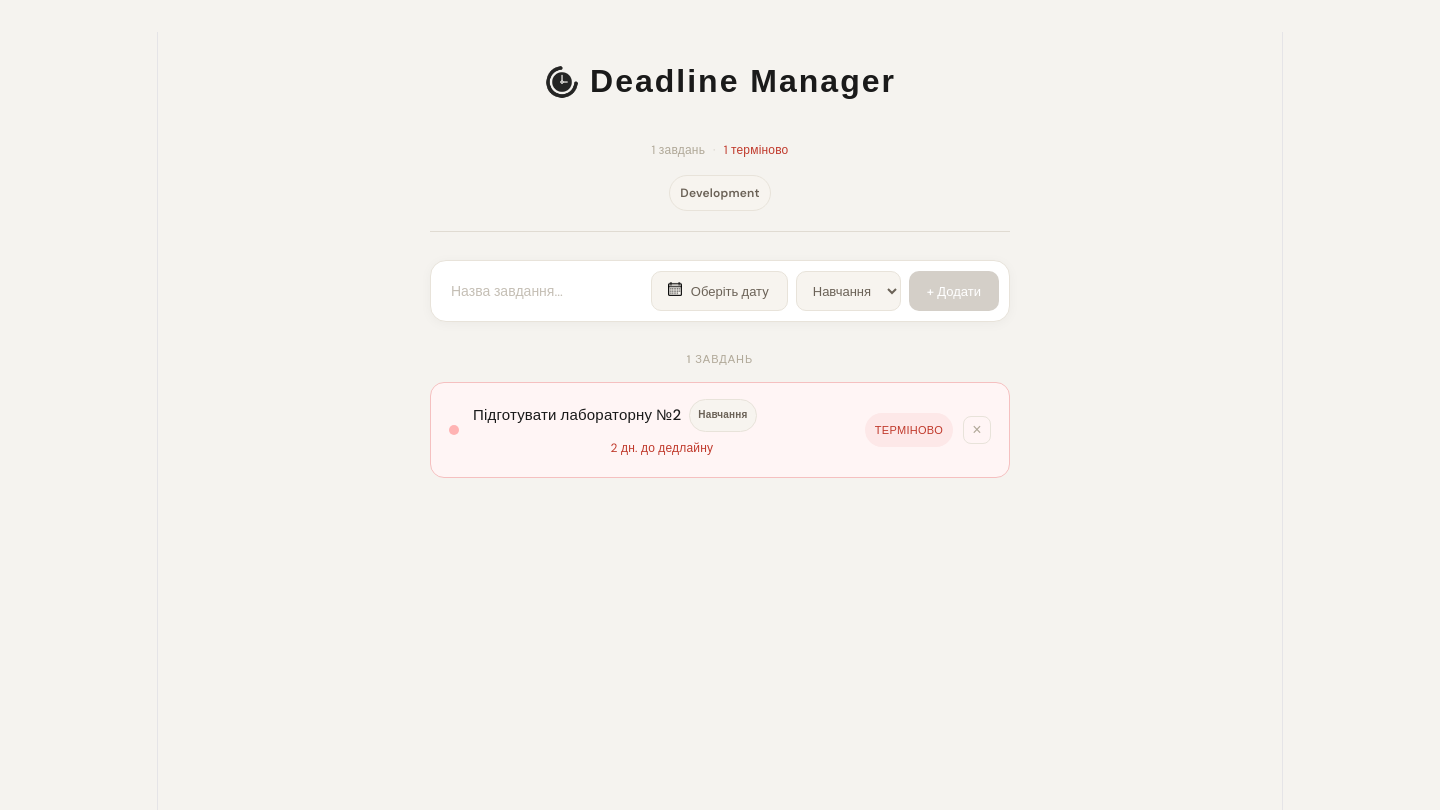
App › видаляє завдання зі списку після натискання кнопки видалення
Type "Завдання для видалення" into the field with class "input-name" at (542, 291), box [441,274,643,308]
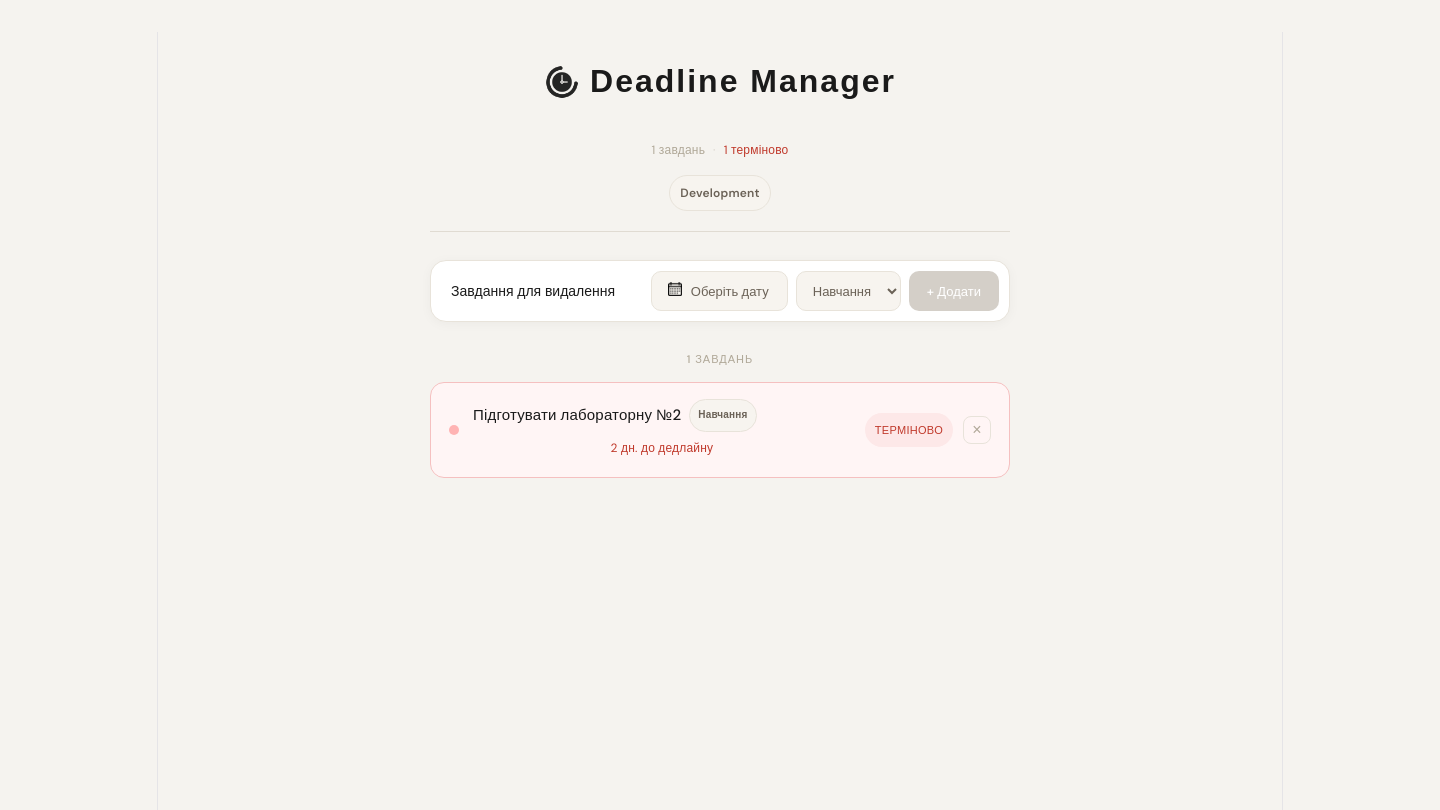
Type "2026-05-20" into the date field labelled "Оберіть дату" at (719, 291), box [651,271,788,311]
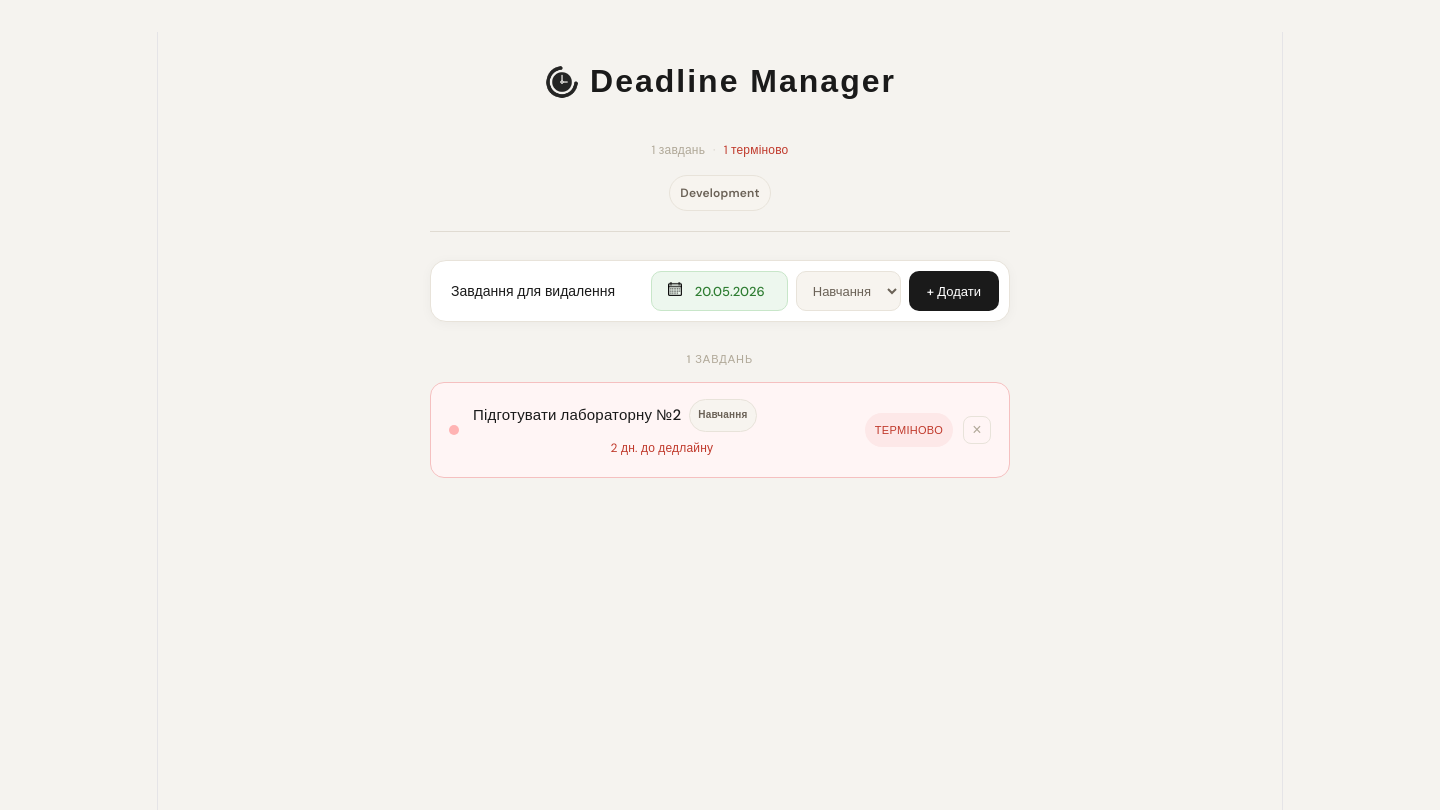
Select "Робота" in the dropdown named "Категорія завдання" at (848, 291), box [796,271,901,311]
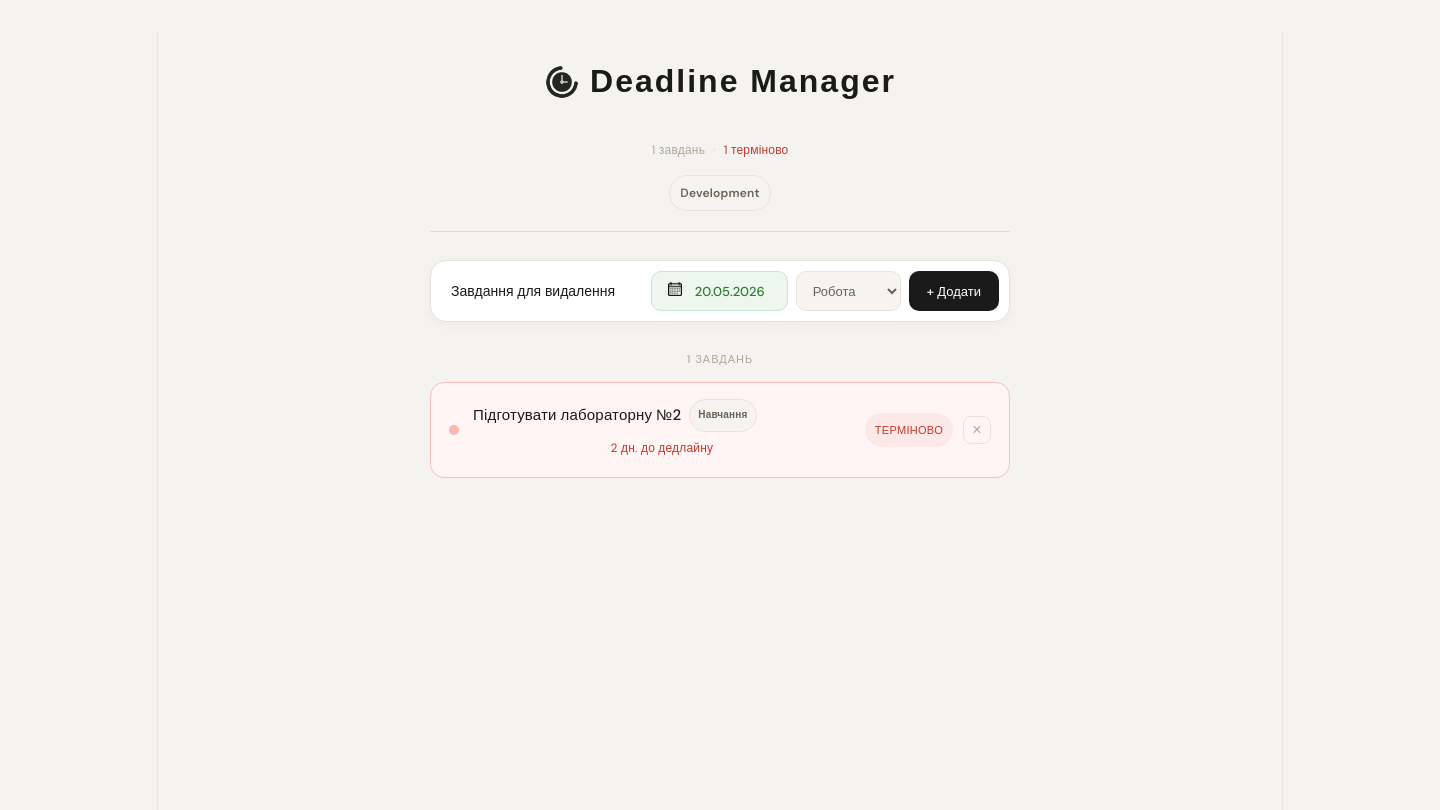
Click the button with class "add-btn" at (954, 291), box [909,271,999,311]
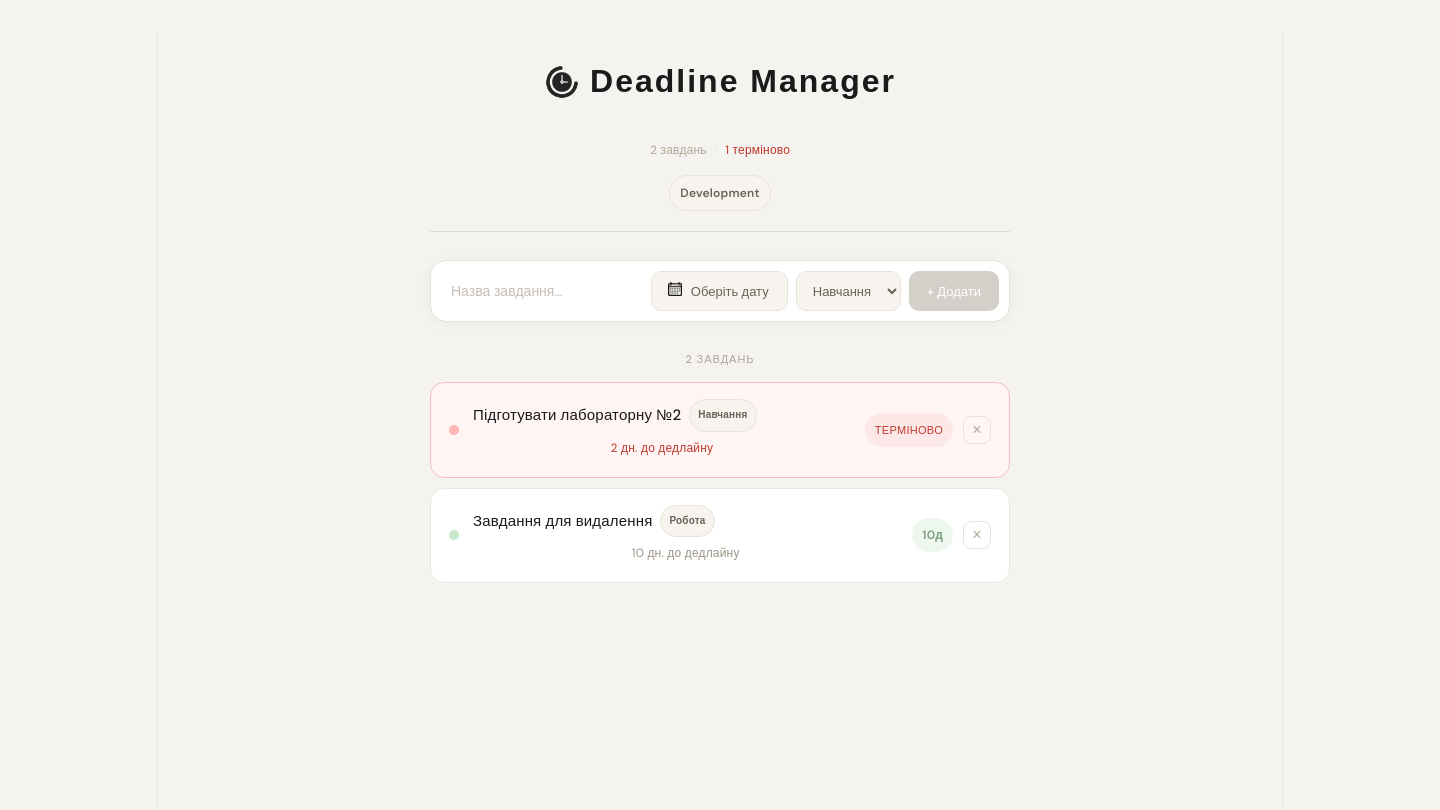
Click the button with class "remove-btn" in the row of "Навчання" at (977, 430), box [963,416,991,444]
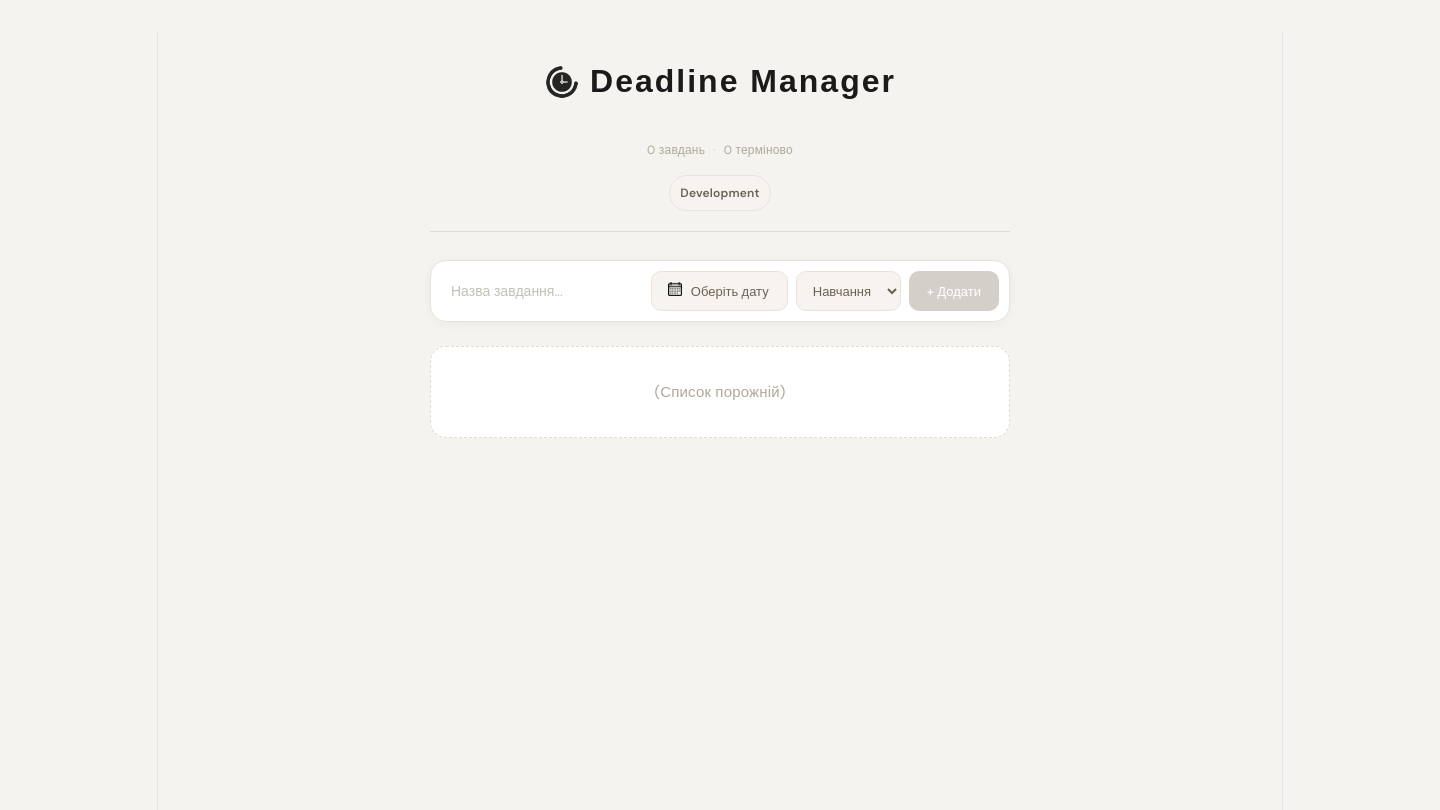
Expected: the text "Завдання для видалення" is gone
Expected: the text "(Список порожній)" is shown, [430,346,1010,438]
